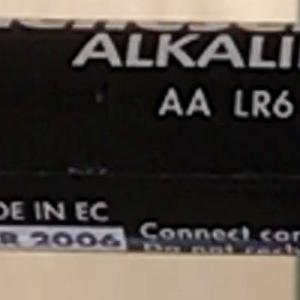keyword: (63, 24, 191, 76)
